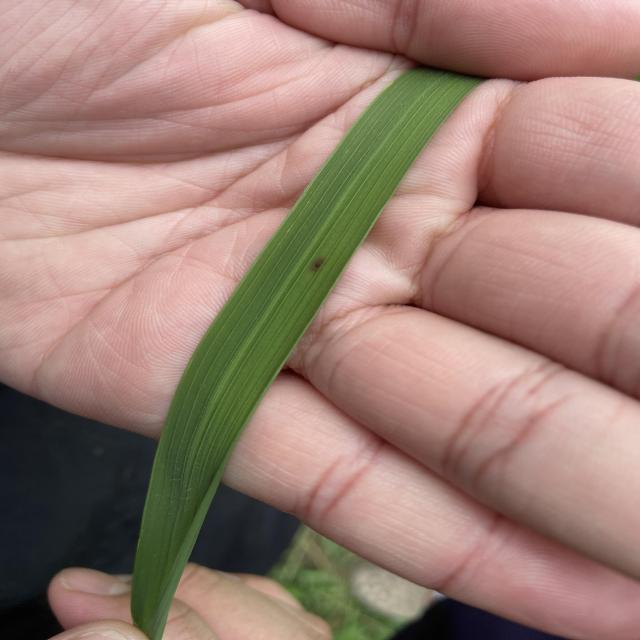Dao on: (310, 257, 326, 273)
